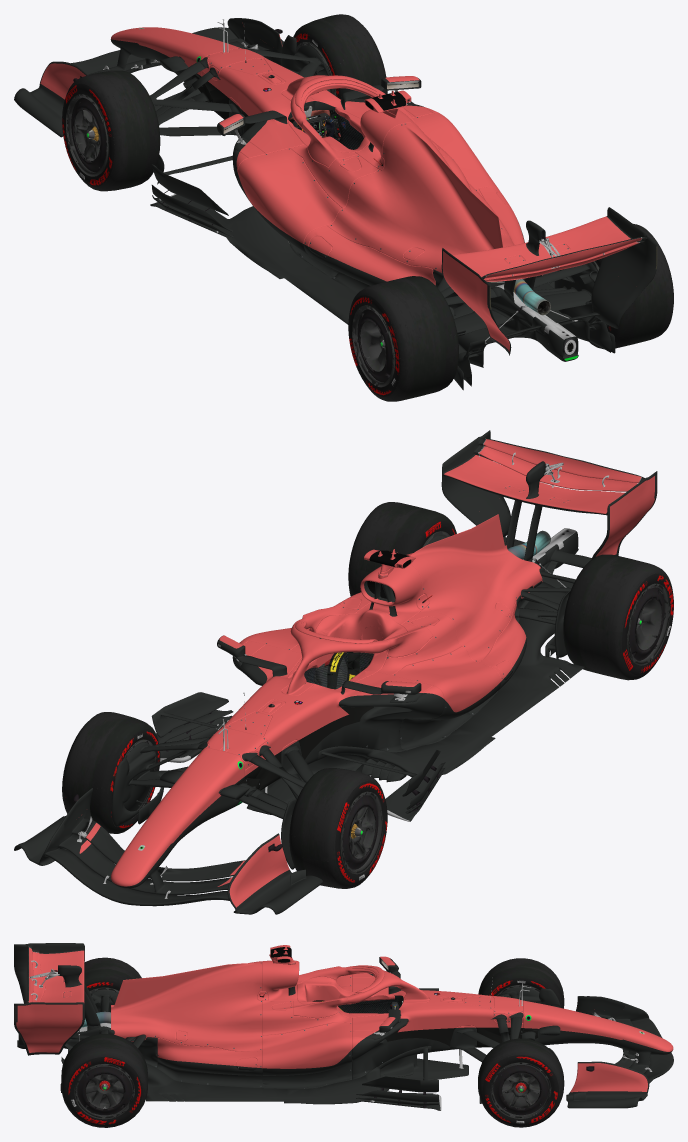
File: f1_argento.glb
3 views of the same model, one above another, from view 1: azimuth 30°, elevation 25°; view 2: azimuth 150°, elevation 25°; view 3: azimuth 270°, elevation 25° (orthographic). The views are drawn at different scales.
Parts seen in each view (by area): view 1: Body, Wheel_RL, Wheel_FL, Wheel_FR, Wheel_RR; view 2: Body, Wheel_RL, Wheel_FL, Wheel_FR, Wheel_RR; view 3: Body, Wheel_RR, Wheel_FR, Wheel_FL, Wheel_RL.
Boxes of the visible parts, x1,y1,x2,y2 form: Body: (14,18,657,390); Wheel_RL: (348,276,458,401); Wheel_FL: (62,70,160,191); Wheel_FR: (293,14,387,99); Wheel_RR: (589,224,673,349); Body: (14,430,657,914); Wheel_RL: (563,554,673,680); Wheel_FL: (289,768,387,888); Wheel_FR: (62,712,160,833); Wheel_RR: (348,502,456,596); Body: (14,943,673,1110); Wheel_RR: (61,1034,147,1127); Wheel_FR: (478,1038,564,1127); Wheel_FL: (478,958,564,1008); Wheel_RL: (84,957,141,993).
Size of the model in its own units: 1.92 by 1.2 by 5.39.
26 materials, 25 textured.
